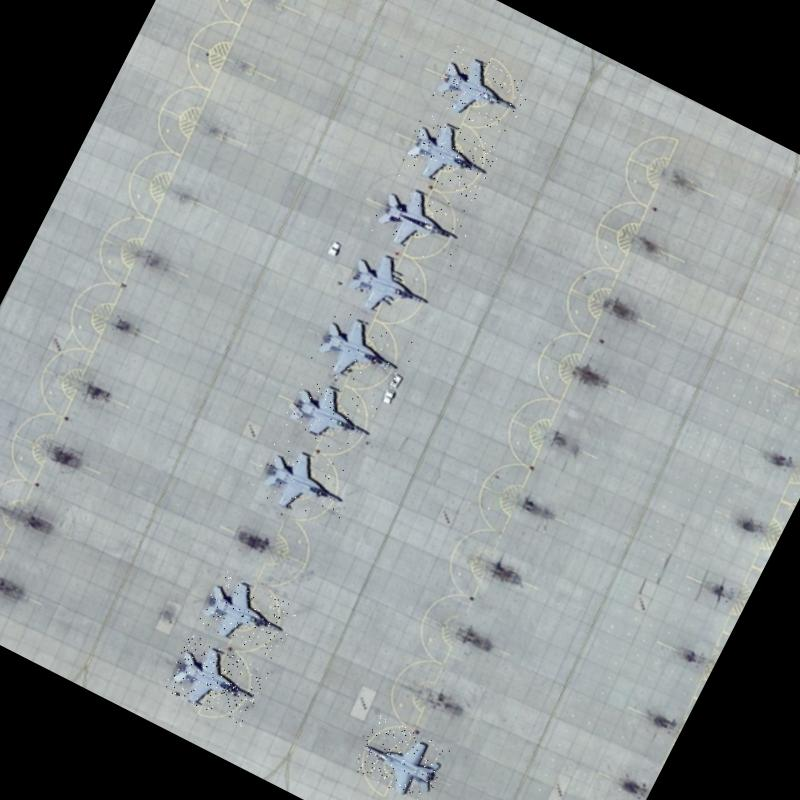A16: (247, 434, 360, 534), (368, 174, 476, 272), (308, 304, 417, 401), (397, 108, 502, 204), (162, 634, 269, 728), (280, 370, 386, 462), (429, 45, 533, 138), (196, 568, 300, 660), (350, 713, 451, 800)
